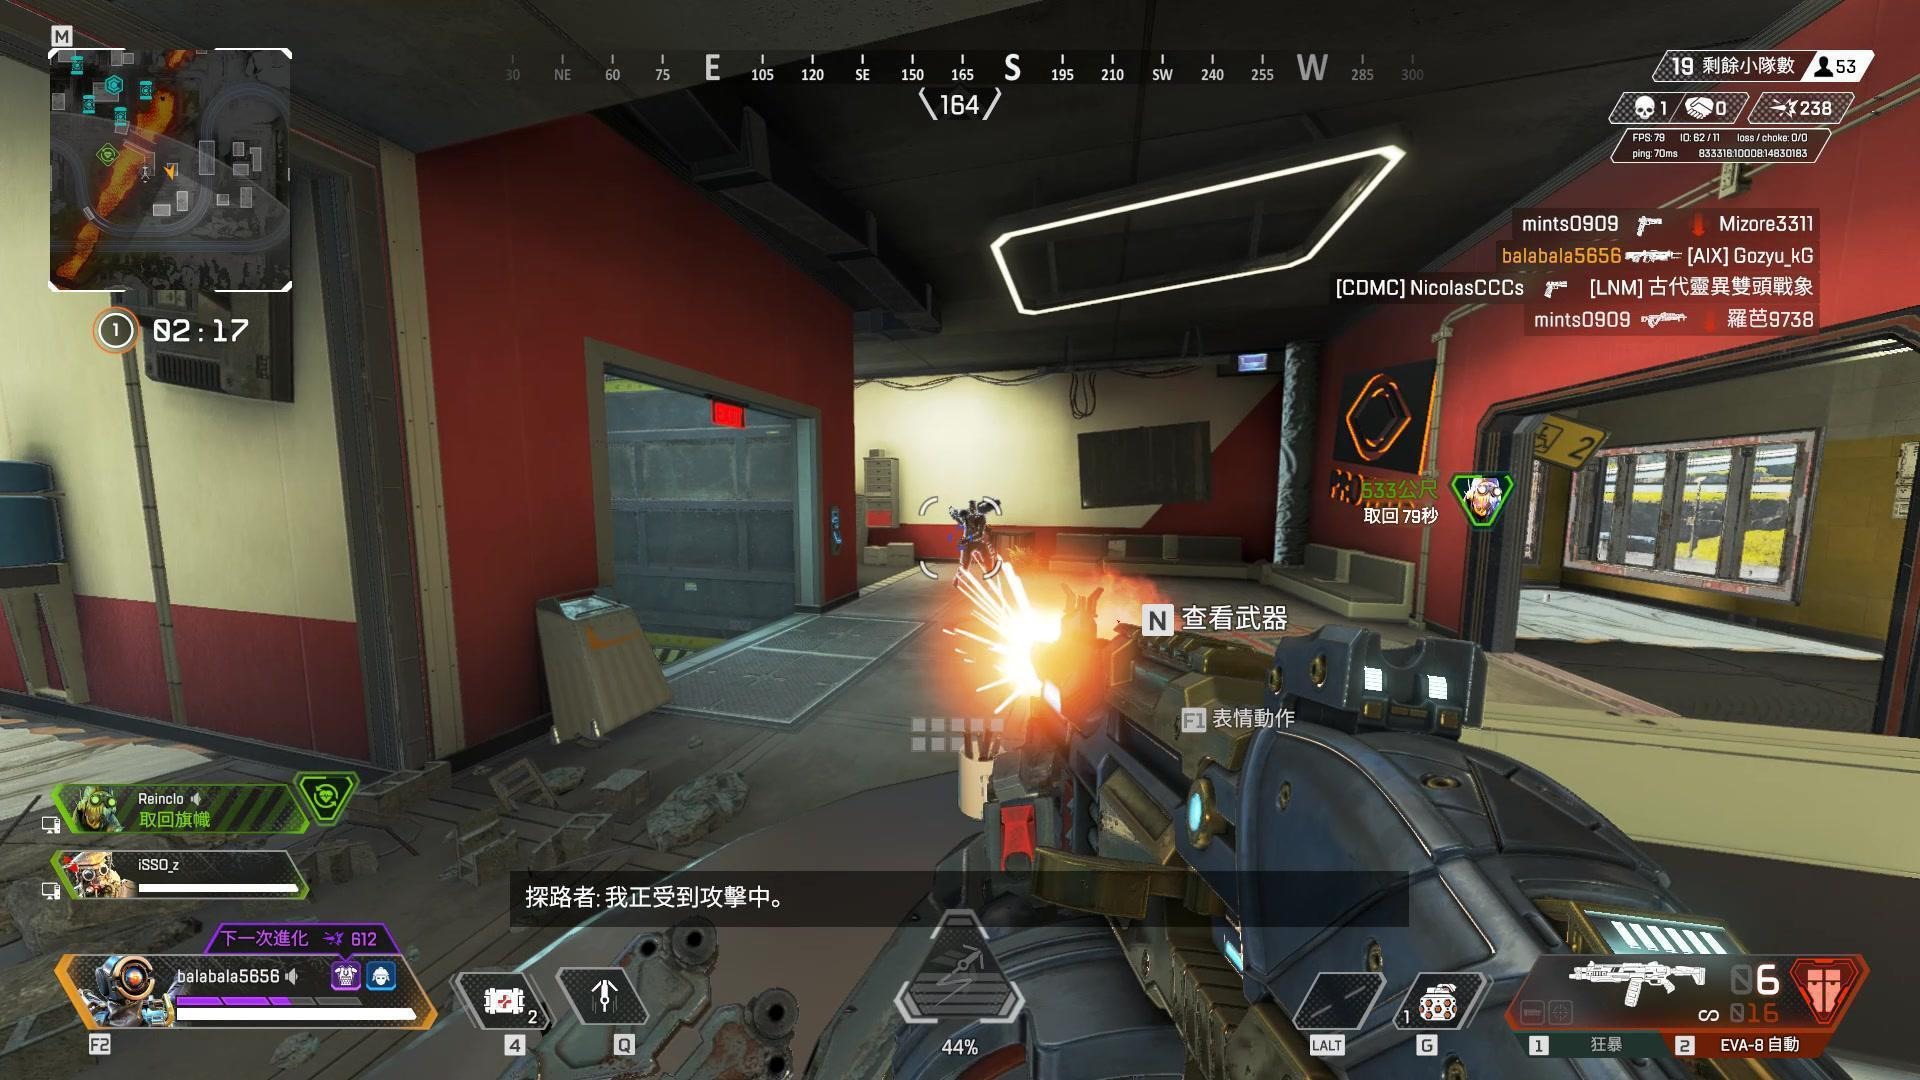avatar: (944, 494, 1003, 588)
